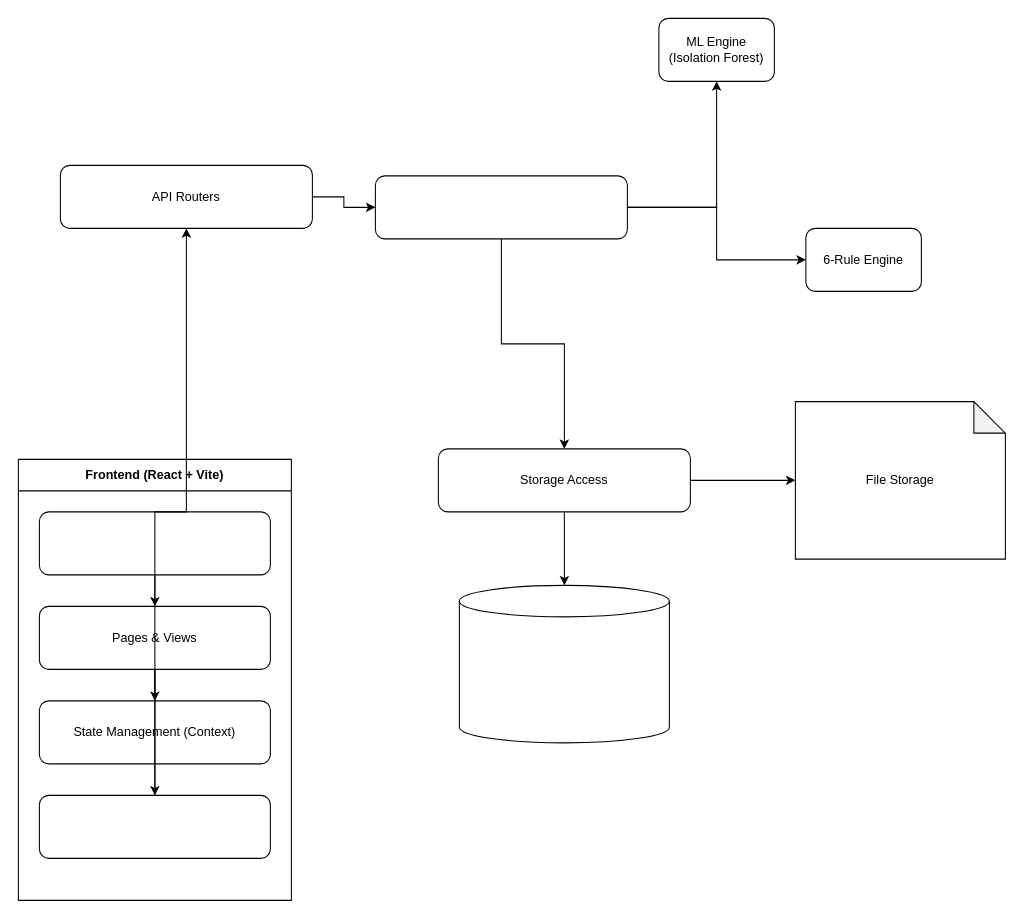
Some shapes in this 1024 by 919 pixel diagram are drawn without their labels. Here are the shapes that lost their labels. From the top down, the centre of each, then its label:
At (x=500, y=207): "Business Services".
At (x=154, y=543): "UI Components (Radix + Tailwind)".
At (x=563, y=663): "MongoDB Atlas".
At (x=154, y=826): "API Client (Axios/Fetch)".
